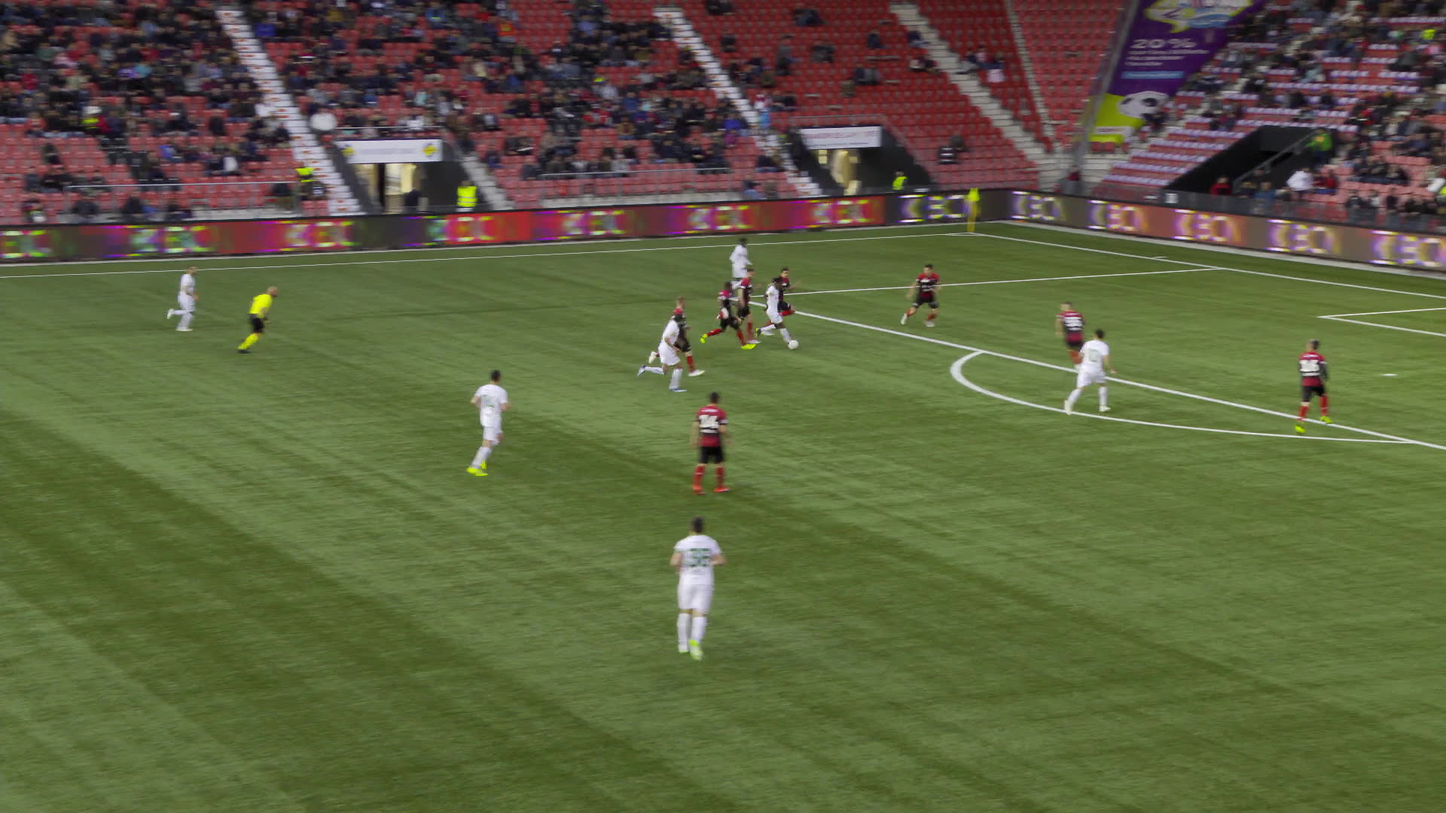ball: (788, 338, 798, 347)
player: (673, 520, 729, 660), (459, 367, 514, 474), (694, 391, 737, 494), (1073, 330, 1118, 414), (1298, 338, 1337, 429), (161, 263, 207, 331), (756, 266, 802, 329), (658, 296, 694, 376), (646, 312, 682, 391), (1060, 301, 1096, 373), (907, 263, 948, 325), (716, 236, 757, 296), (711, 281, 740, 349), (731, 268, 761, 333), (757, 279, 784, 344)
referee: (230, 284, 282, 354)
